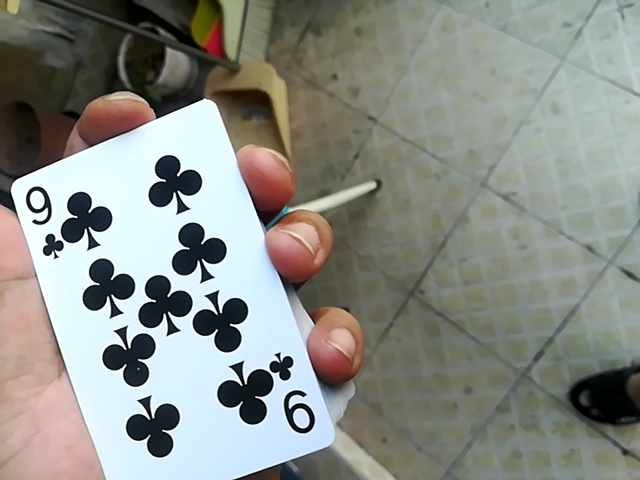mh 9: (1, 94, 342, 480)
